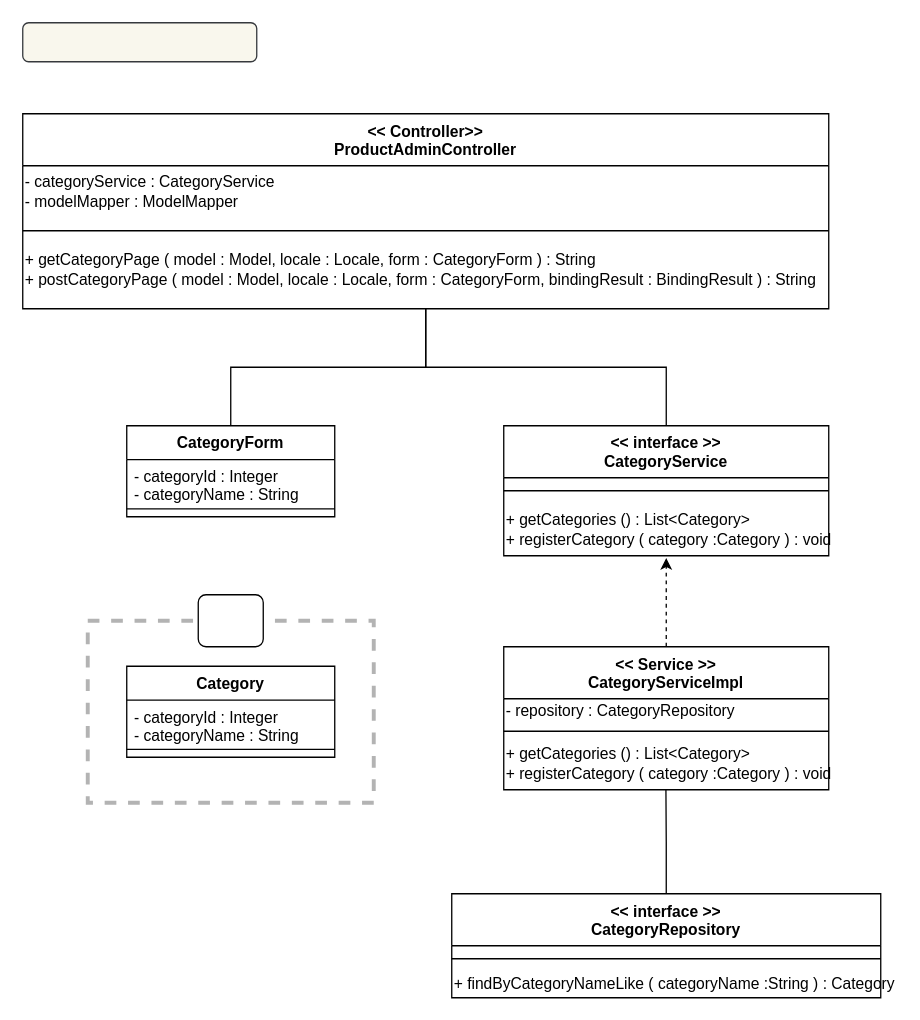
Some shapes in this 920 by 1020 pixel diagram are drawn without their labels. Here are the shapes that lost their labels. From the top down, the centre of each, then its label:
At (x=139, y=41): "商品カテゴリ登録機能".
At (x=230, y=620): "共通".
